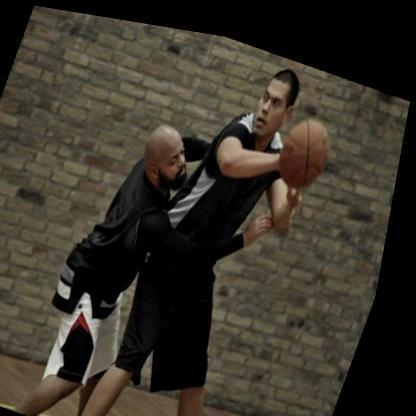basketball: (273, 101, 343, 182)
